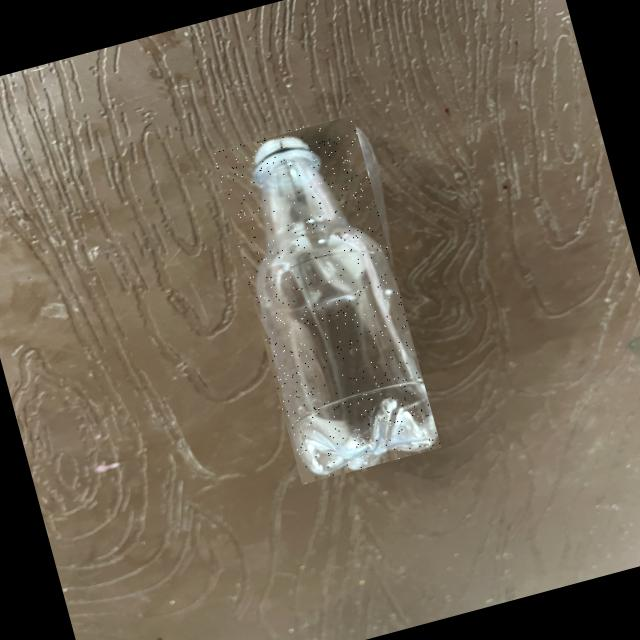PET_With_Cap: (211, 112, 440, 483)
